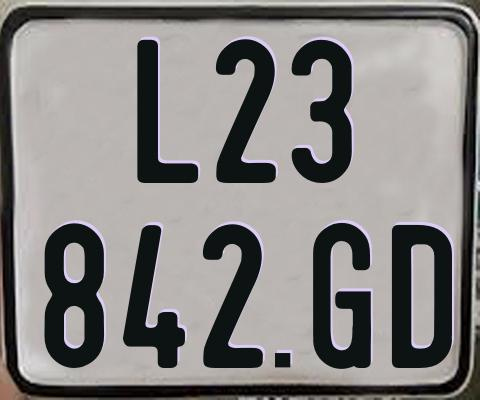2: (216, 36, 282, 185), (200, 222, 264, 372)
3: (288, 40, 353, 183)
4: (122, 223, 188, 367)
8: (41, 220, 101, 365)
D: (392, 225, 455, 374)
G: (312, 220, 375, 366)
L: (135, 39, 201, 186)
